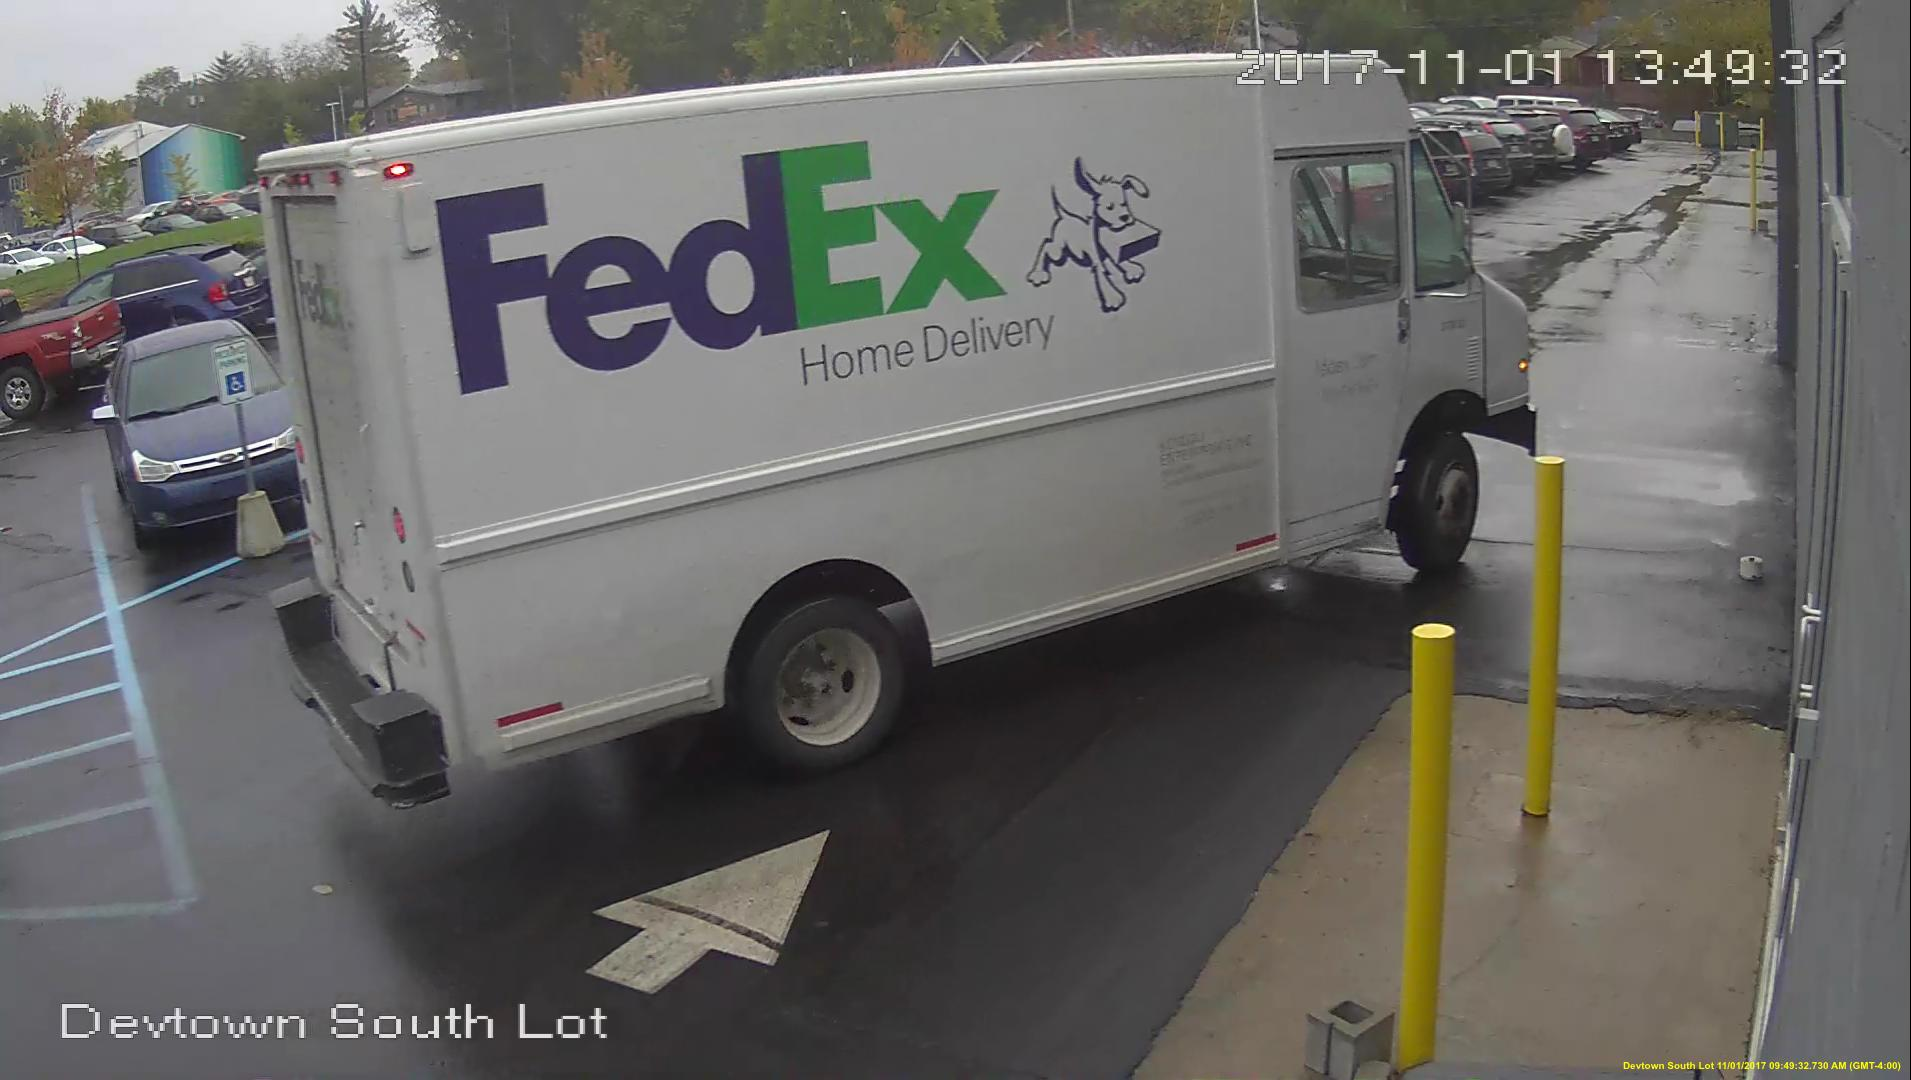fedex_truck: (270, 56, 1530, 804)
